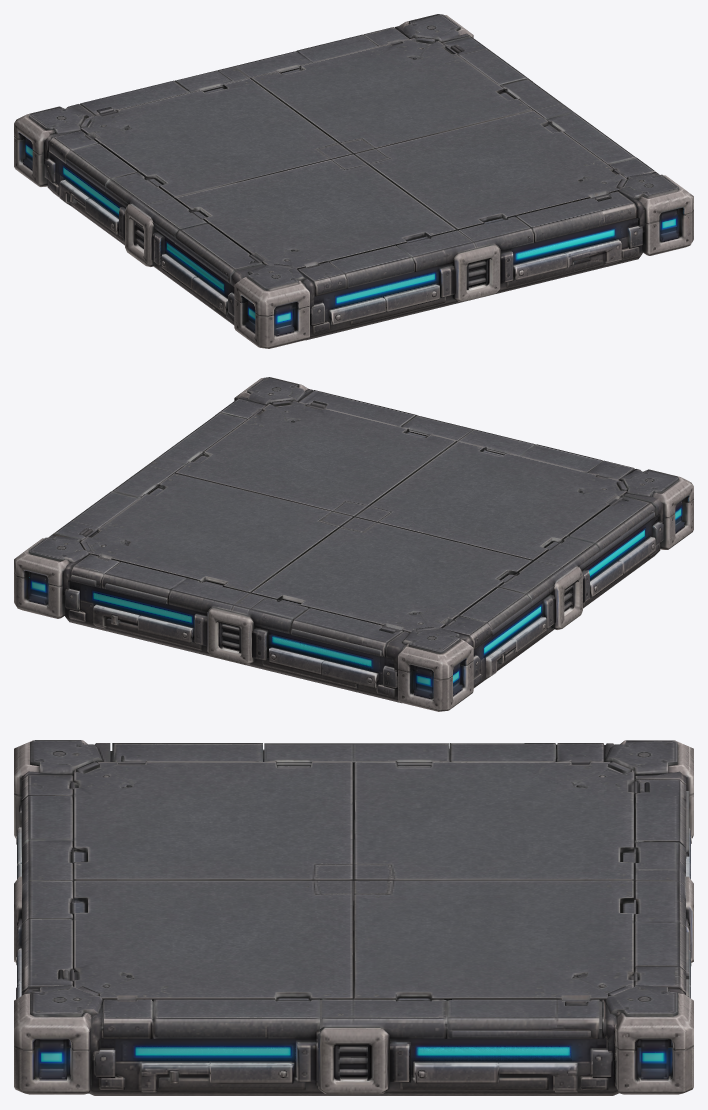
Rendered from futuristic_platform_3d_model.fbx.
3 views of the same model, one above another, from view 1: azimuth 30°, elevation 25°; view 2: azimuth 150°, elevation 25°; view 3: azimuth 270°, elevation 25° (orthographic). The views are drawn at different scales.
Parts seen in each view (by area): view 1: tripo_30e0b32d_640f_4cd8_9b56_631c518ff9b5; view 2: tripo_30e0b32d_640f_4cd8_9b56_631c518ff9b5; view 3: tripo_30e0b32d_640f_4cd8_9b56_631c518ff9b5.
Part boxes in pixels (bbox=[...]): tripo_30e0b32d_640f_4cd8_9b56_631c518ff9b5: bbox=[14, 14, 693, 348]; tripo_30e0b32d_640f_4cd8_9b56_631c518ff9b5: bbox=[14, 377, 693, 711]; tripo_30e0b32d_640f_4cd8_9b56_631c518ff9b5: bbox=[14, 740, 693, 1095].
Size of the model in its own units: 0.9995 by 0.147 by 0.9995.
Materials: 1 (1 with a texture image).
